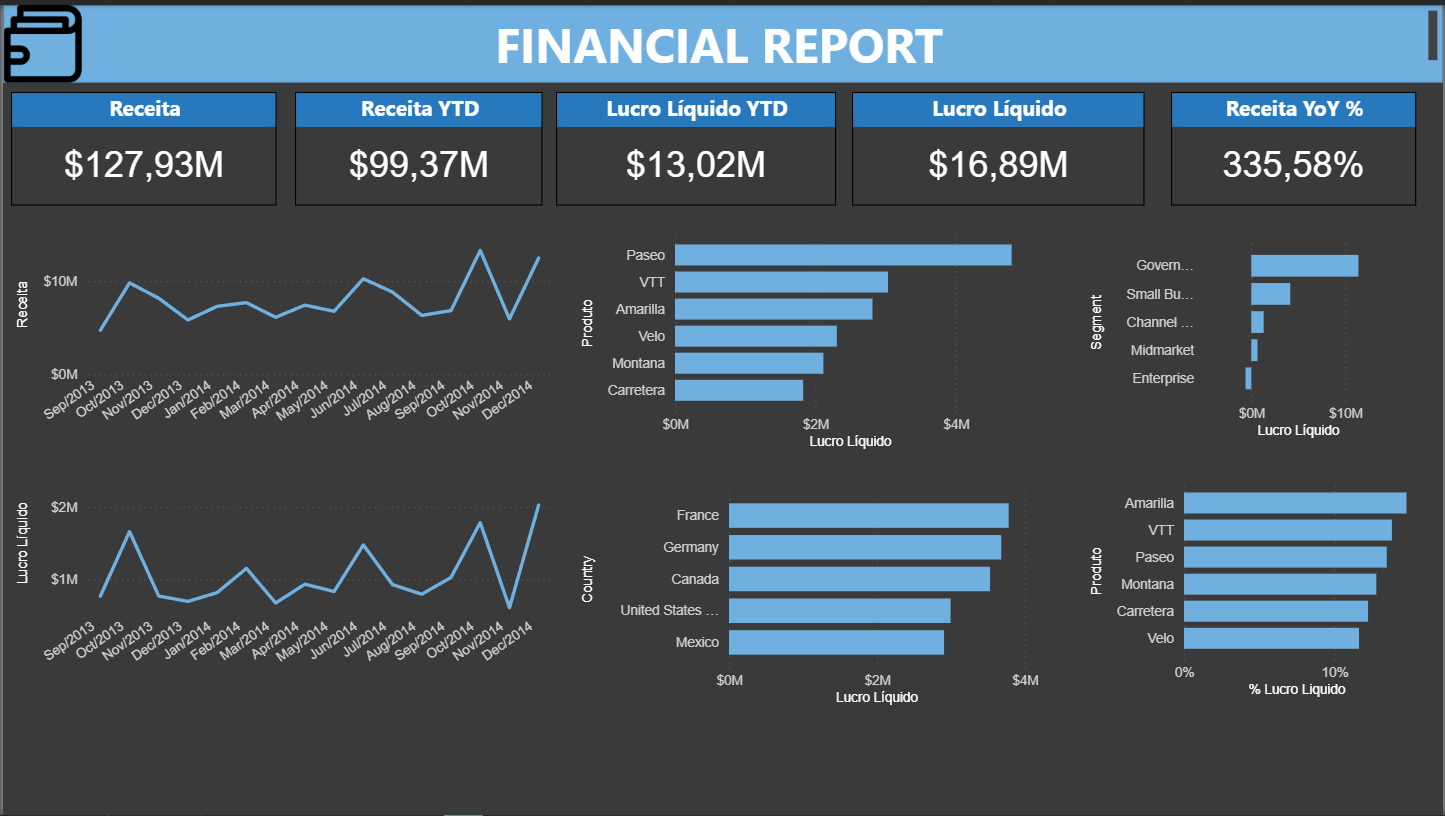

The dashboard page shown, as its layout file describes it:
{"tool":"powerbi","page":{"name":"Dashboard","canvas":[1280,720],"ordinal":1},"visuals":[{"type":"shape","box":[0,0,1280.2,69.1],"z":0},{"type":"textbox","box":[0,0,1280.2,60.1],"z":1000},{"type":"image","box":[0,0,71.8,69.1],"z":2000},{"type":"card","title":"Receita","fields":{"Values":["_Measures.Receita"]},"box":[7.1,77.3,236.4,101.3],"z":3000},{"type":"card","title":"Lucro Líquido","fields":{"Values":["_Measures.Lucro Líquido"]},"box":[754.7,77.3,260.4,101.3],"z":4000},{"type":"card","title":"Receita YTD","fields":{"Values":["_Measures.Receita YTD"]},"box":[259.6,77.3,220.4,101.3],"z":5000},{"type":"card","title":"Lucro Líquido YTD","fields":{"Values":["_Measures.Líquido YTD"]},"box":[491.6,77.3,248.9,101.3],"z":6000},{"type":"card","title":"Receita YoY %","fields":{"Values":["_Measures.Lucro Liquido YoY %"]},"box":[1038.2,77.3,217.8,101.3],"z":7000},{"type":"lineChart","fields":{"Category":["D_Calendar.Mês/Ano"],"Y":["_Measures.Receita"]},"box":[7.1,190.2,484.4,200],"z":8000},{"type":"lineChart","fields":{"Category":["D_Calendar.Mês/Ano"],"Y":["_Measures.Lucro Líquido"]},"box":[7.1,400,484.4,204.4],"z":9000},{"type":"clusteredBarChart","fields":{"Category":["D_Product.Product"],"Y":["_Measures.Lucro Líquido"]},"box":[509.3,190.2,416.9,209.8],"z":10000},{"type":"clusteredBarChart","fields":{"Category":["D_Country.Country"],"Y":["_Measures.Lucro Líquido"]},"box":[509.3,418.7,416,208.9],"z":11000},{"type":"clusteredBarChart","fields":{"Category":["D_Product.Product"],"Y":["_Measures.% Lucro Liquido"]},"box":[961.8,410.7,306.7,209.8],"z":12000},{"type":"clusteredBarChart","fields":{"Category":["D_Segment.Segment"],"Y":["_Measures.Lucro Líquido"]},"box":[961.8,199.1,294.2,191.1],"z":13000}]}

Visuals, with their boxes in screenshot pixels (x1, y1, x2, y2), scaled from the page's 1280x720 canvas onto the 1445x816 screenshot:
shape: box=[0, 0, 1444, 78]
textbox: box=[0, 0, 1444, 68]
image: box=[0, 0, 81, 78]
"Receita" card: box=[8, 88, 275, 202]
"Lucro Líquido" card: box=[852, 88, 1146, 202]
"Receita YTD" card: box=[293, 88, 542, 202]
"Lucro Líquido YTD" card: box=[555, 88, 836, 202]
"Receita YoY %" card: box=[1172, 88, 1418, 202]
lineChart - D_Calendar.Mês/Ano x _Measures.Receita: box=[8, 216, 555, 442]
lineChart - D_Calendar.Mês/Ano x _Measures.Lucro Líquido: box=[8, 453, 555, 685]
clusteredBarChart - D_Product.Product x _Measures.Lucro Líquido: box=[575, 216, 1046, 453]
clusteredBarChart - D_Country.Country x _Measures.Lucro Líquido: box=[575, 475, 1045, 711]
clusteredBarChart - D_Product.Product x _Measures.% Lucro Liquido: box=[1086, 465, 1432, 703]
clusteredBarChart - D_Segment.Segment x _Measures.Lucro Líquido: box=[1086, 226, 1418, 442]
